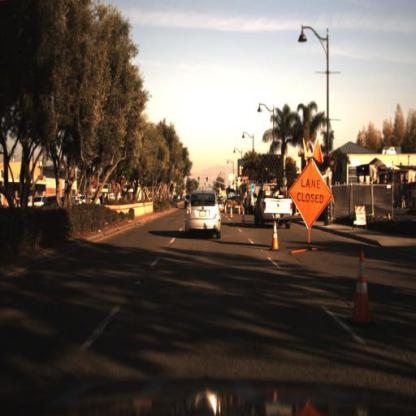car: (184, 189, 224, 240), (254, 181, 294, 227), (181, 193, 193, 214)
